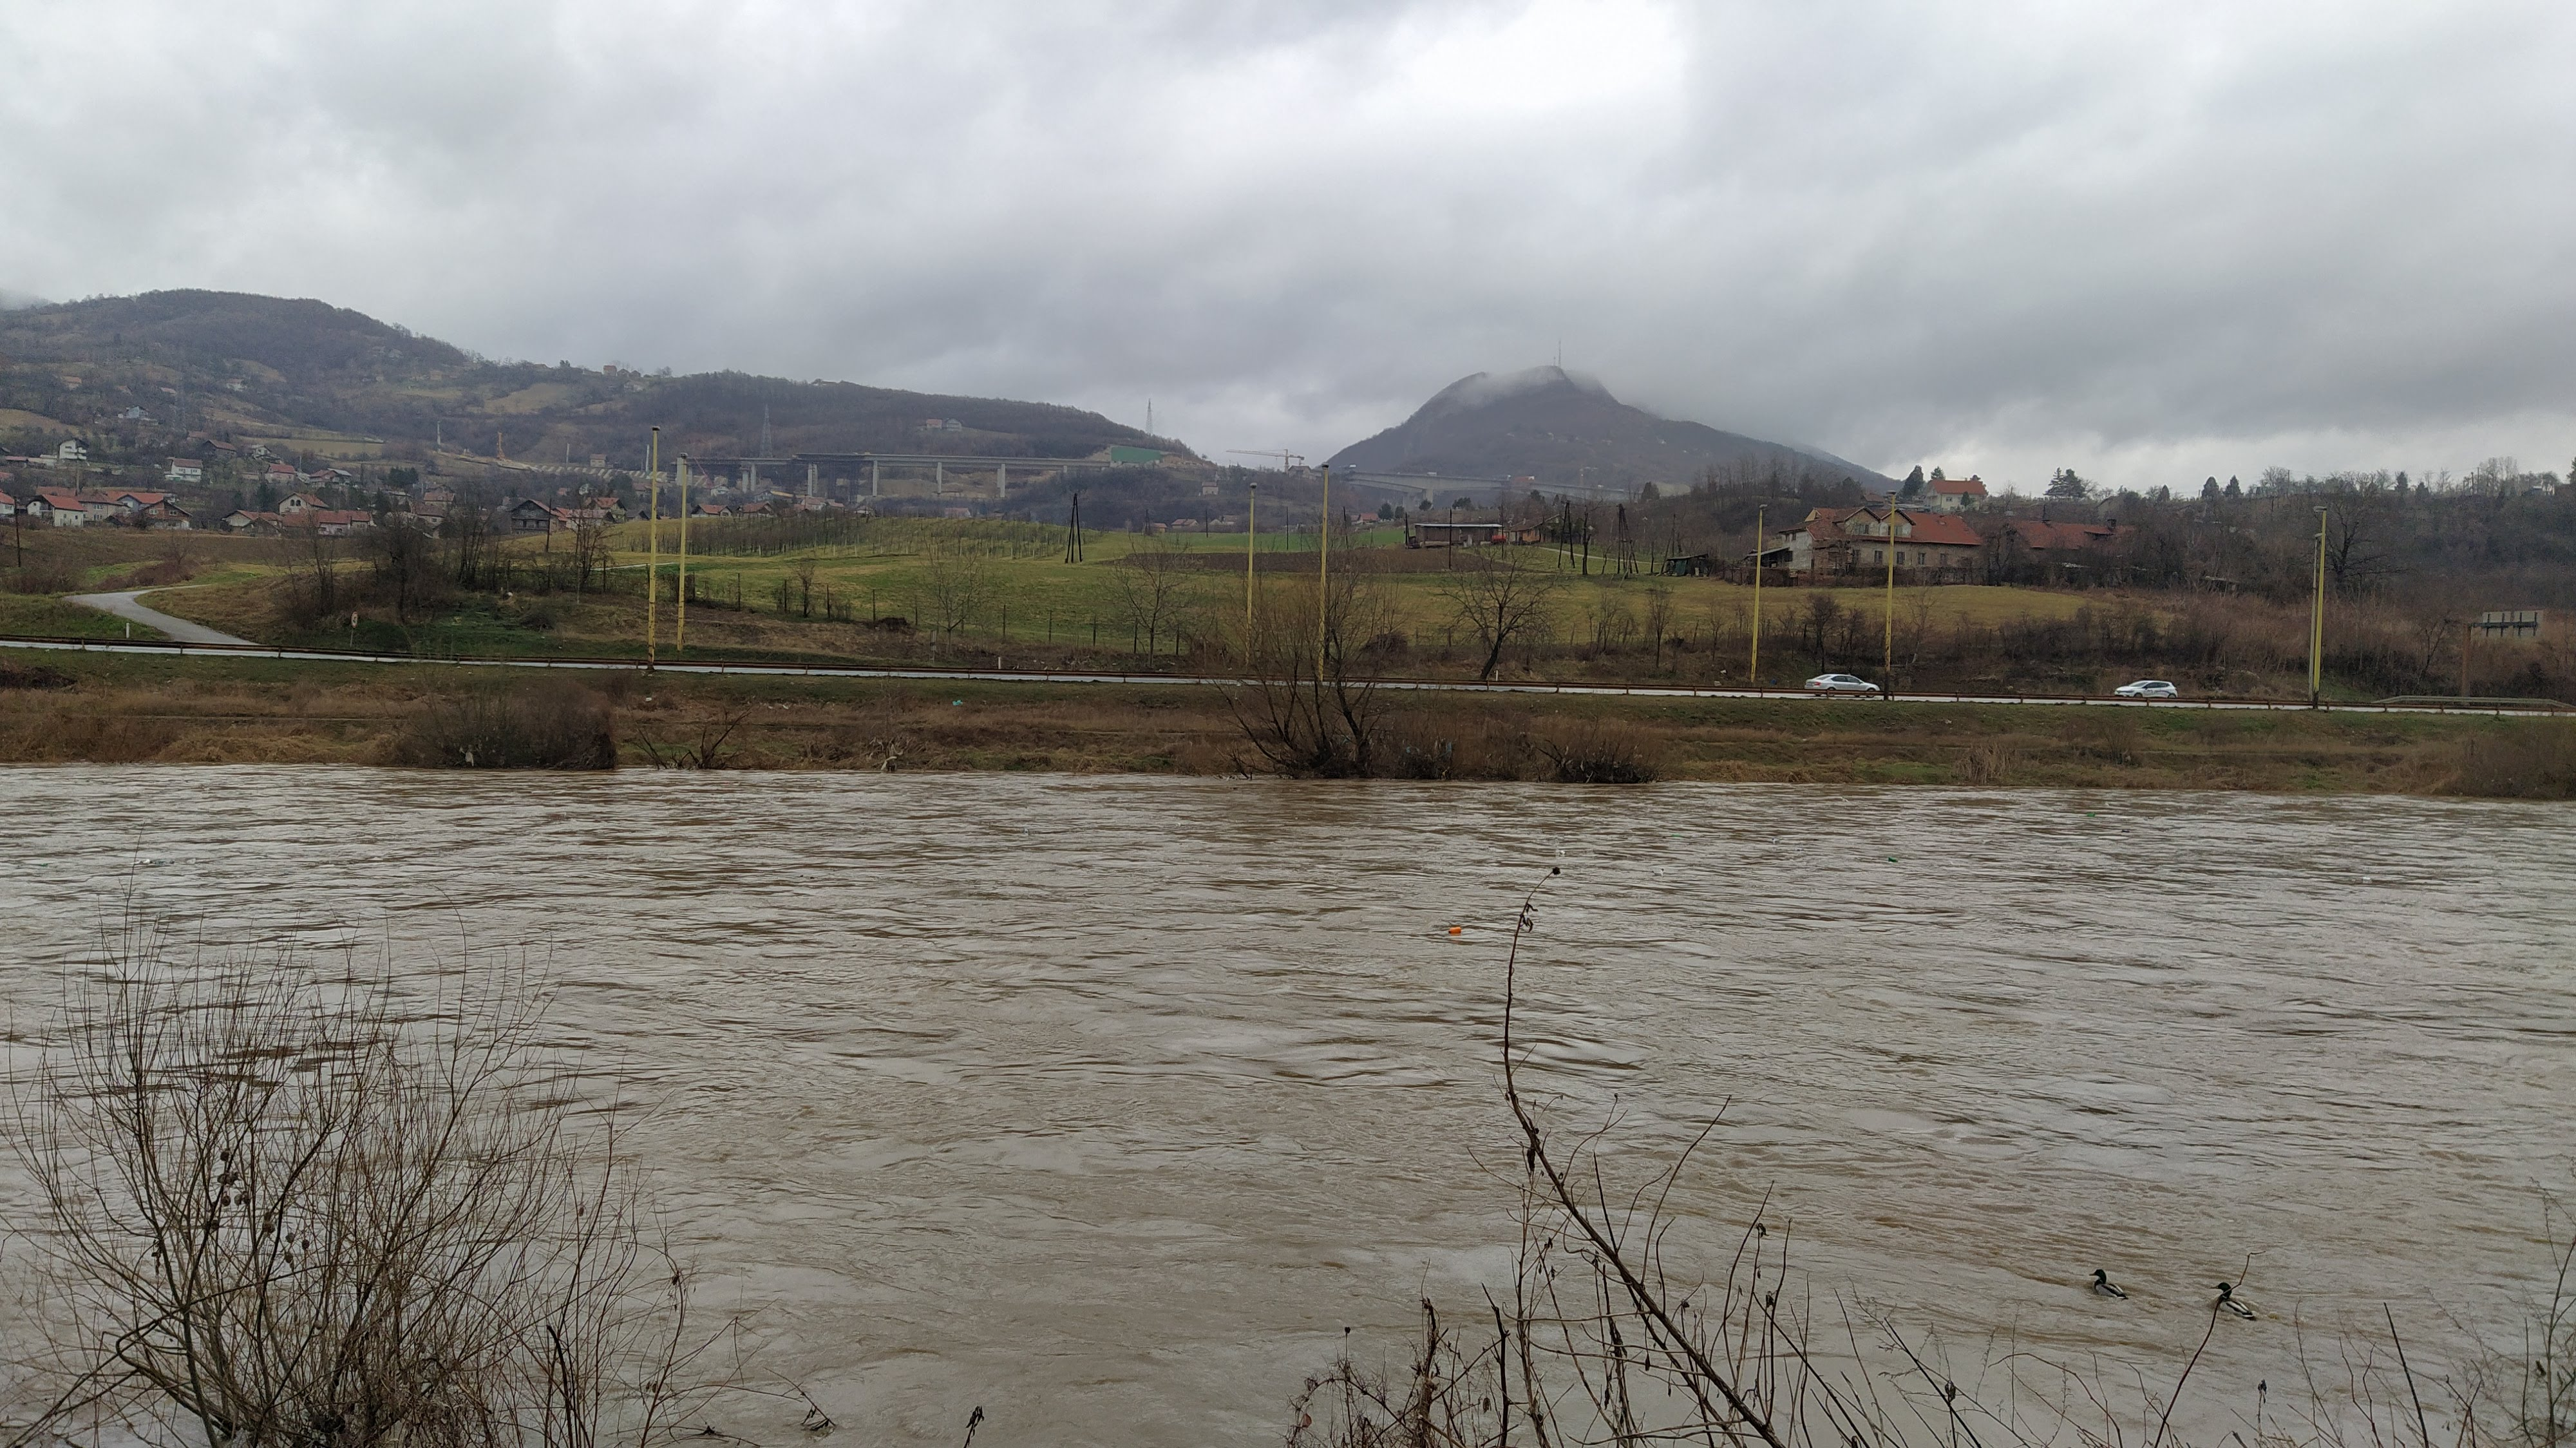Plastic Bottle: (1447, 926, 1461, 933), (140, 859, 152, 864), (2086, 811, 2095, 816), (156, 860, 166, 864), (1890, 857, 1897, 862), (2362, 876, 2371, 880), (1672, 832, 1679, 836), (1560, 850, 1564, 855), (1024, 828, 1028, 832)
